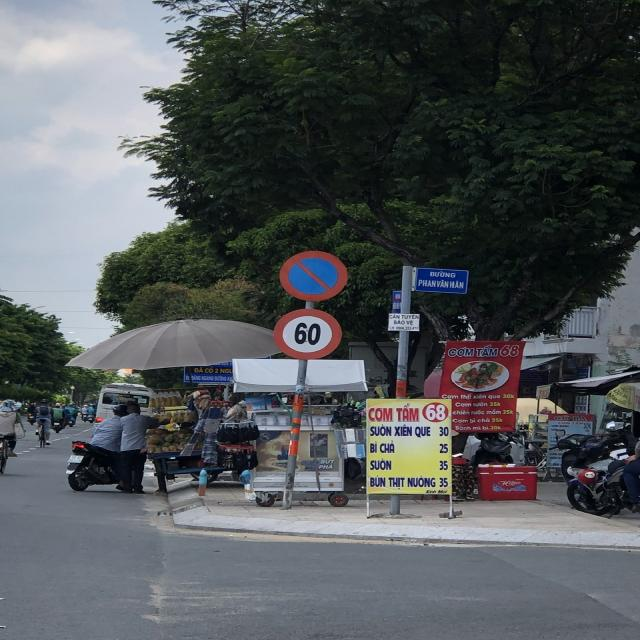Bien bao cam do xe: (274, 243, 352, 305)
Bien bao toc do toi da cho phep: (265, 304, 345, 366)
